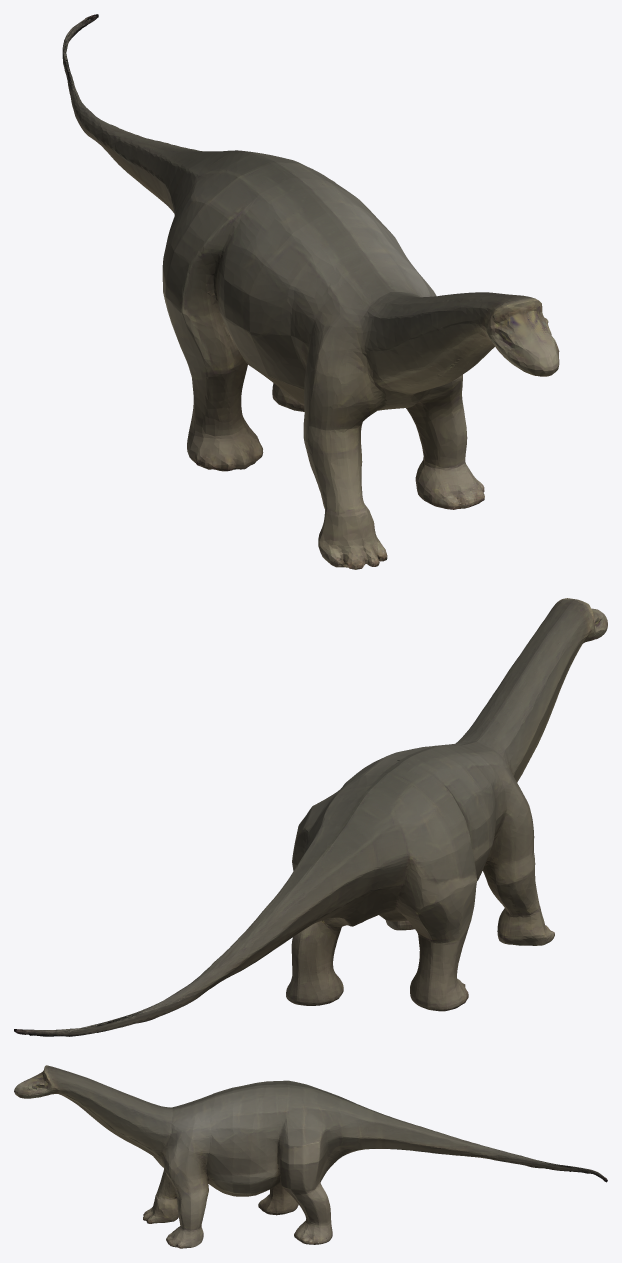
The picture shows the model from 3 angles, top to bottom: view 1: azimuth 30°, elevation 25°; view 2: azimuth 150°, elevation 25°; view 3: azimuth 270°, elevation 25°; orthographic projection. The views are drawn at different scales.
Visible parts, largest first — view 1: world; view 2: world; view 3: world.
Part boxes in pixels (x1,y1,x2,y2): world: (62,14,559,569); world: (14,598,607,1036); world: (14,1065,607,1248).
Size of the model in its own units: 5.27 by 6.7 by 22.
1 material, 1 textured.
